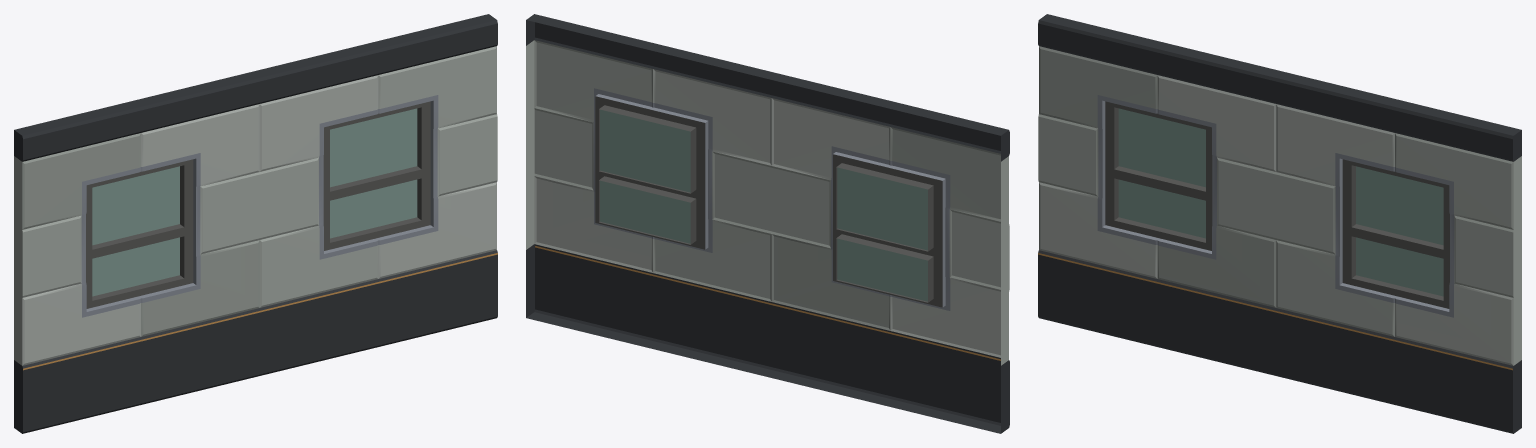
File: Wall_Interior_Window_Ground_01.glb
The picture shows the model from 3 angles, left to right: view 1: azimuth 30°, elevation 25°; view 2: azimuth 150°, elevation 25°; view 3: azimuth 330°, elevation 25°; orthographic projection.
Parts seen in each view (by area): view 1: SM_Env_Wall_Interior_Window_Ground_01, SM_Env_Wall_Interior_Window_Ground_Glass_01; view 2: SM_Env_Wall_Interior_Window_Ground_01, SM_Env_Wall_Interior_Window_Ground_Glass_01; view 3: SM_Env_Wall_Interior_Window_Ground_01, SM_Env_Wall_Interior_Window_Ground_Glass_01.
Part boxes in pixels (x1,y1,x2,y2): SM_Env_Wall_Interior_Window_Ground_01: (14,14,497,433); SM_Env_Wall_Interior_Window_Ground_Glass_01: (92,108,417,296); SM_Env_Wall_Interior_Window_Ground_01: (526,14,1009,433); SM_Env_Wall_Interior_Window_Ground_Glass_01: (600,109,927,301); SM_Env_Wall_Interior_Window_Ground_01: (1038,14,1521,433); SM_Env_Wall_Interior_Window_Ground_Glass_01: (1118,108,1443,296).
Size of the model in its own units: 5 by 3 by 0.1636.
2 materials, 1 textured.
